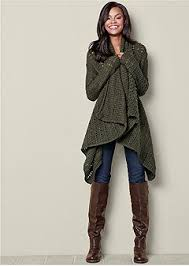S_cardigan sweater: (71, 42, 176, 174)
